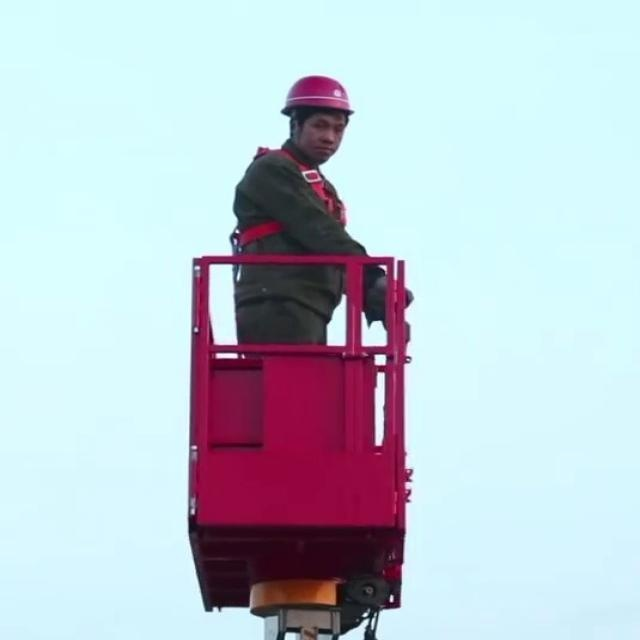Arnes_seguridad: (222, 138, 353, 247)
